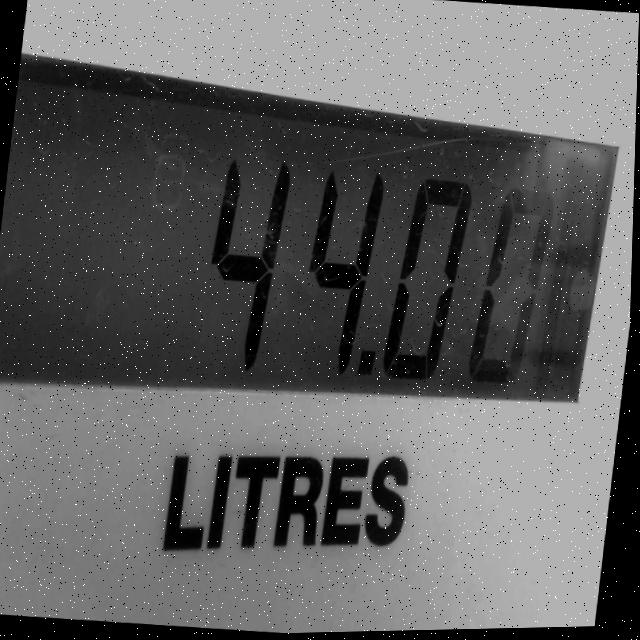.: (350, 336, 392, 401)
0: (465, 166, 579, 417), (374, 158, 484, 401)
4: (181, 140, 312, 380), (289, 159, 390, 387)
